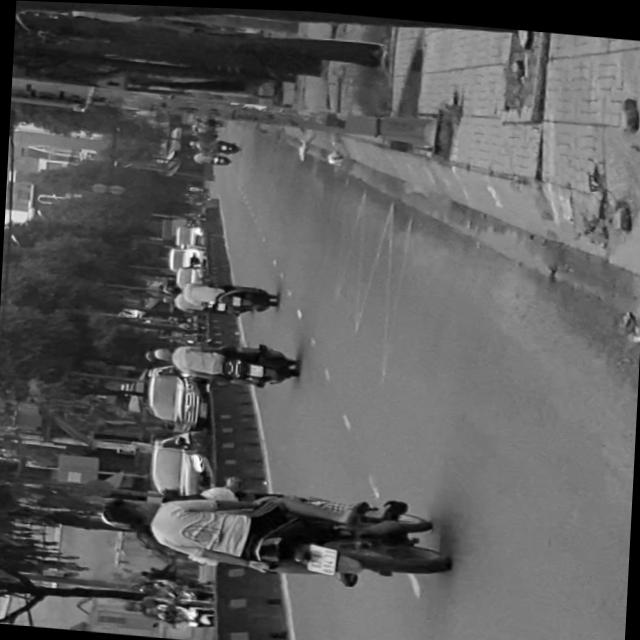licenseplate: (92, 471, 452, 594)
motorcyclist: (100, 494, 156, 530)
nohelmet: (306, 543, 335, 571)
